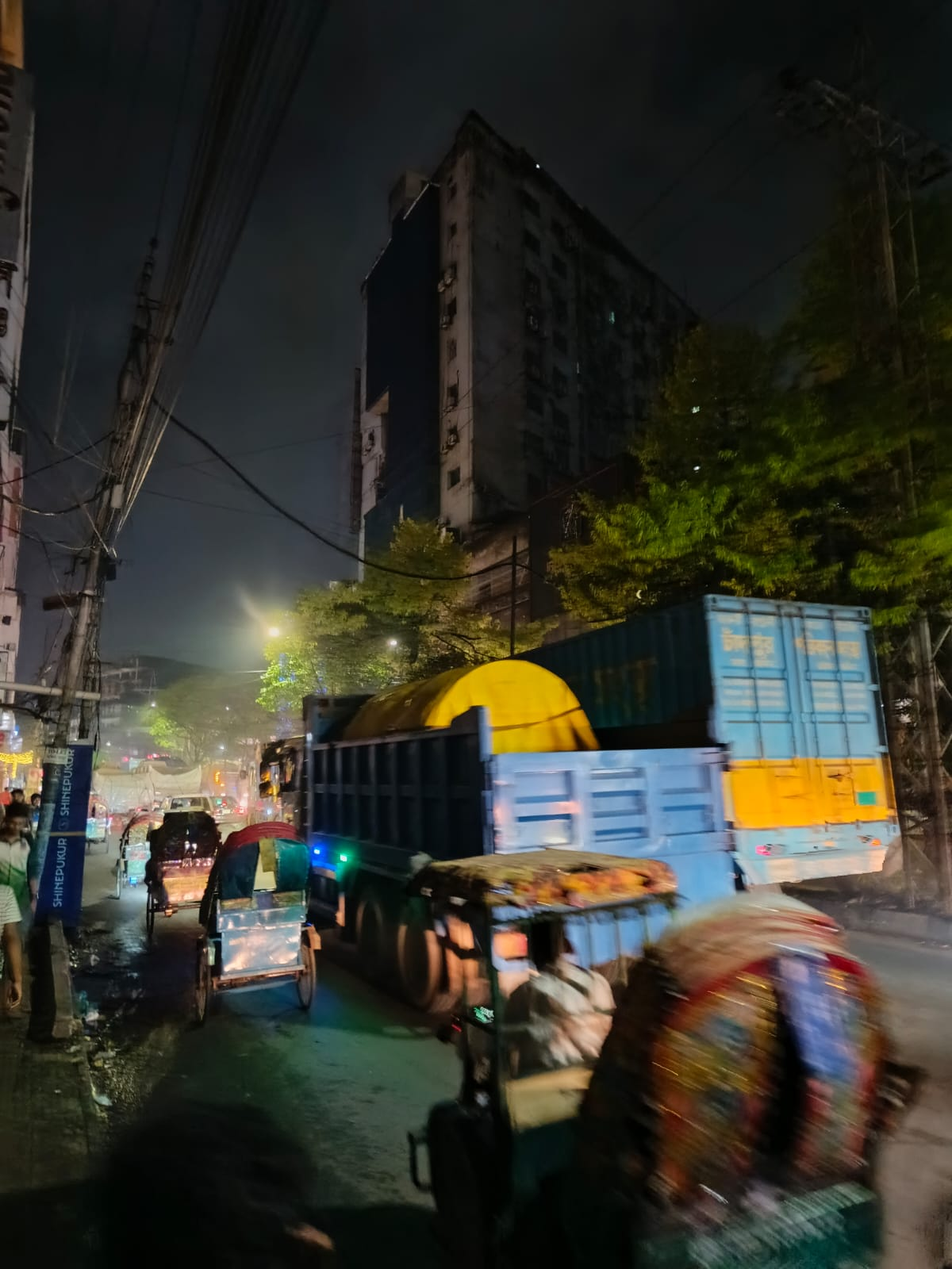Pickup: (254, 550, 753, 1012)
Truck: (489, 545, 922, 912)
auto-ricksaw: (376, 820, 952, 1269), (114, 791, 307, 1014)
